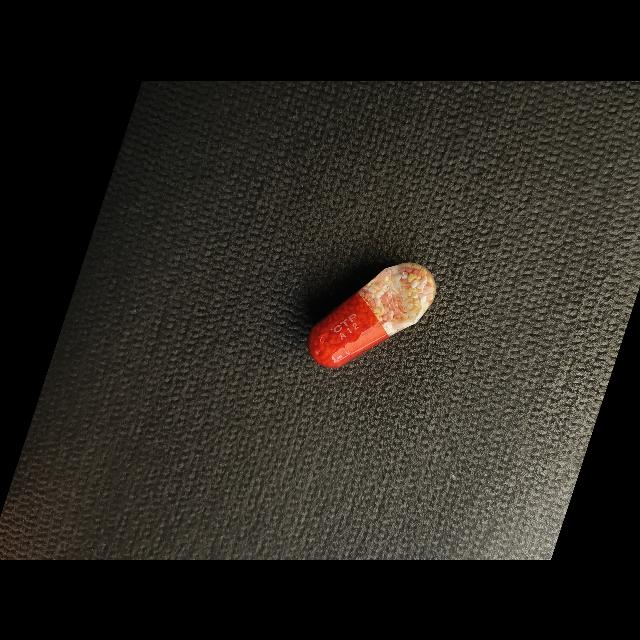Defective Capsule: (308, 262, 436, 367)
